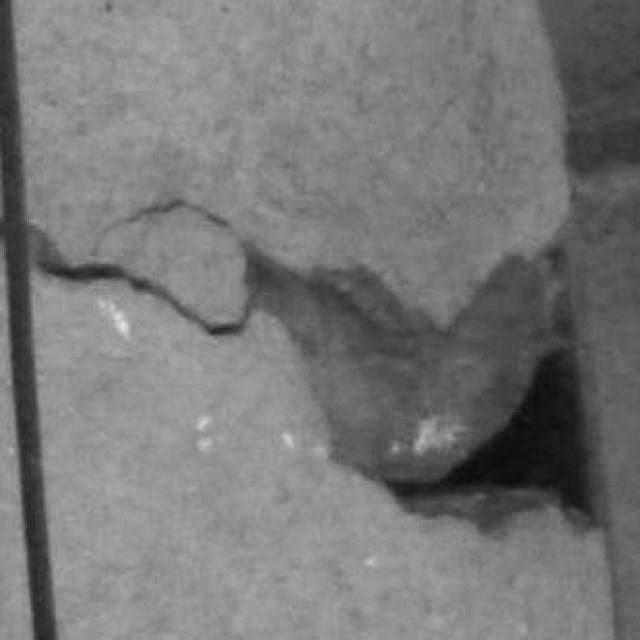crack: (248, 252, 597, 528), (30, 225, 250, 335)
